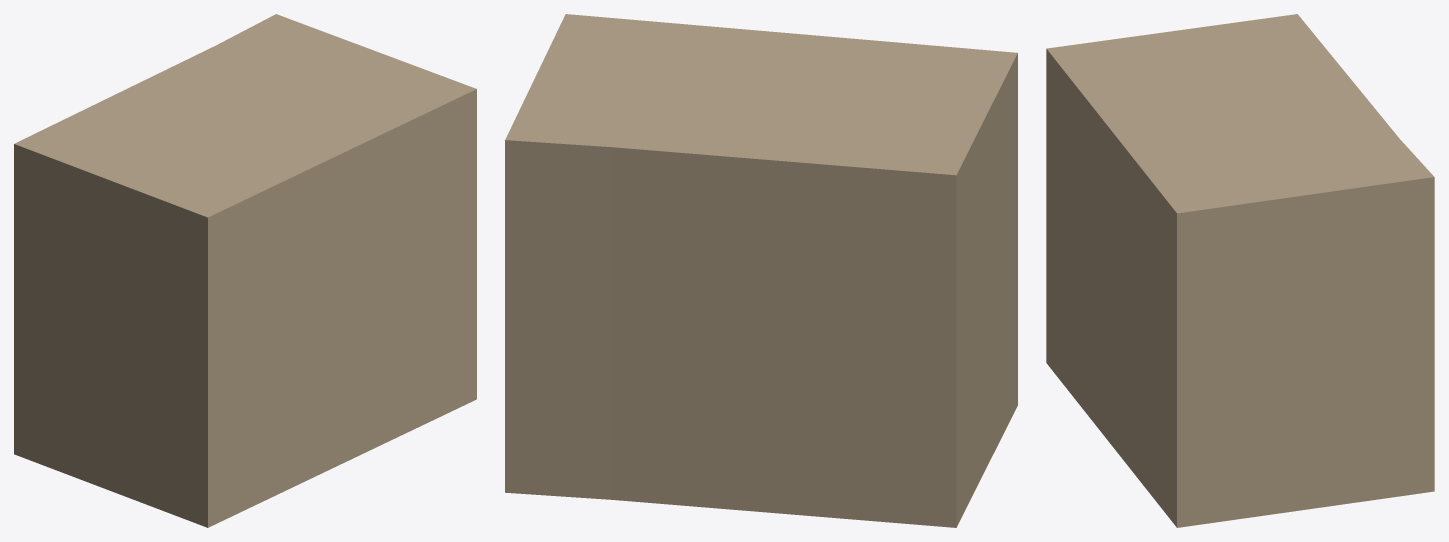
Rendered from bld_100469693.dae.
3 renders of one model, left to right at view 1: azimuth 30°, elevation 25°; view 2: azimuth 150°, elevation 25°; view 3: azimuth 270°, elevation 25°, orthographic. The views are drawn at different scales.
Parts seen in each view (by area): view 1: bld_100469693; view 2: bld_100469693; view 3: bld_100469693.
Part boxes in pixels (left/top/right/bottom): bld_100469693: left=14, top=14, right=476, bottom=527; bld_100469693: left=505, top=14, right=1017, bottom=527; bld_100469693: left=1046, top=14, right=1434, bottom=527.
Bounding box in the file's own units: 10.88 × 8.95 × 8.
